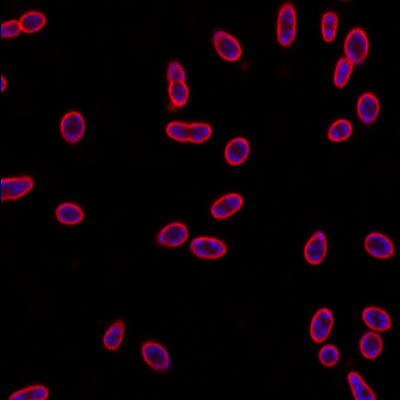Mecillinam: (165, 121, 213, 144), (188, 236, 230, 262), (274, 1, 297, 48), (361, 230, 395, 260), (302, 229, 330, 265), (209, 192, 244, 220), (308, 306, 334, 343), (60, 110, 87, 145), (222, 136, 251, 166), (101, 317, 127, 350), (356, 91, 381, 125), (361, 304, 392, 331), (54, 200, 84, 226), (331, 56, 354, 89), (359, 331, 383, 359), (325, 119, 352, 142), (320, 11, 339, 43), (317, 344, 341, 367)
Oblique: (163, 60, 190, 109), (211, 27, 241, 62), (345, 28, 370, 64), (141, 340, 170, 371), (155, 220, 188, 247)
